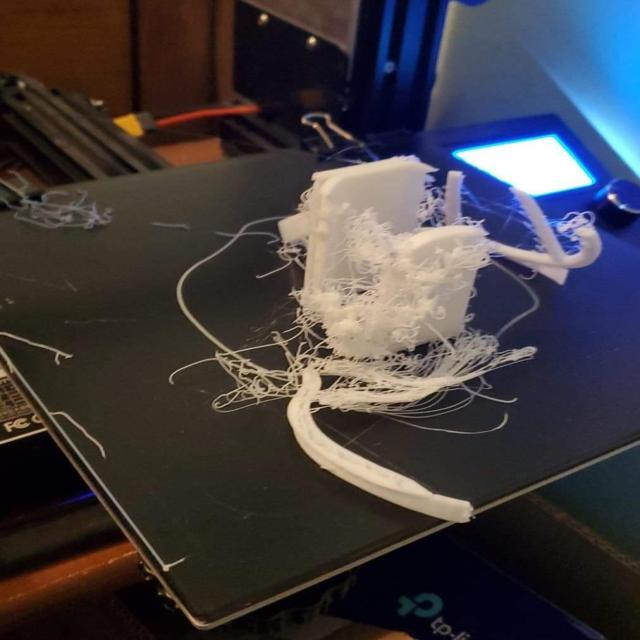Spaghetti: (209, 185, 539, 433), (1, 176, 113, 232)
